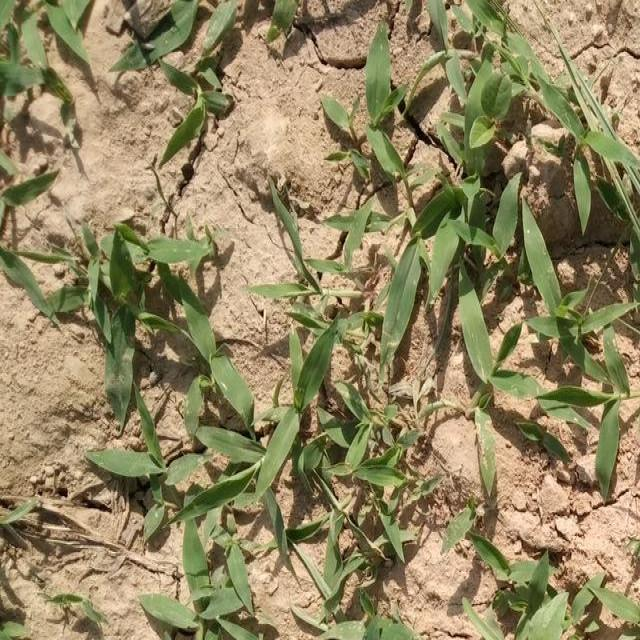weed: (362, 58, 640, 470), (81, 253, 278, 640), (283, 357, 409, 640), (476, 535, 639, 640), (150, 6, 237, 159)
